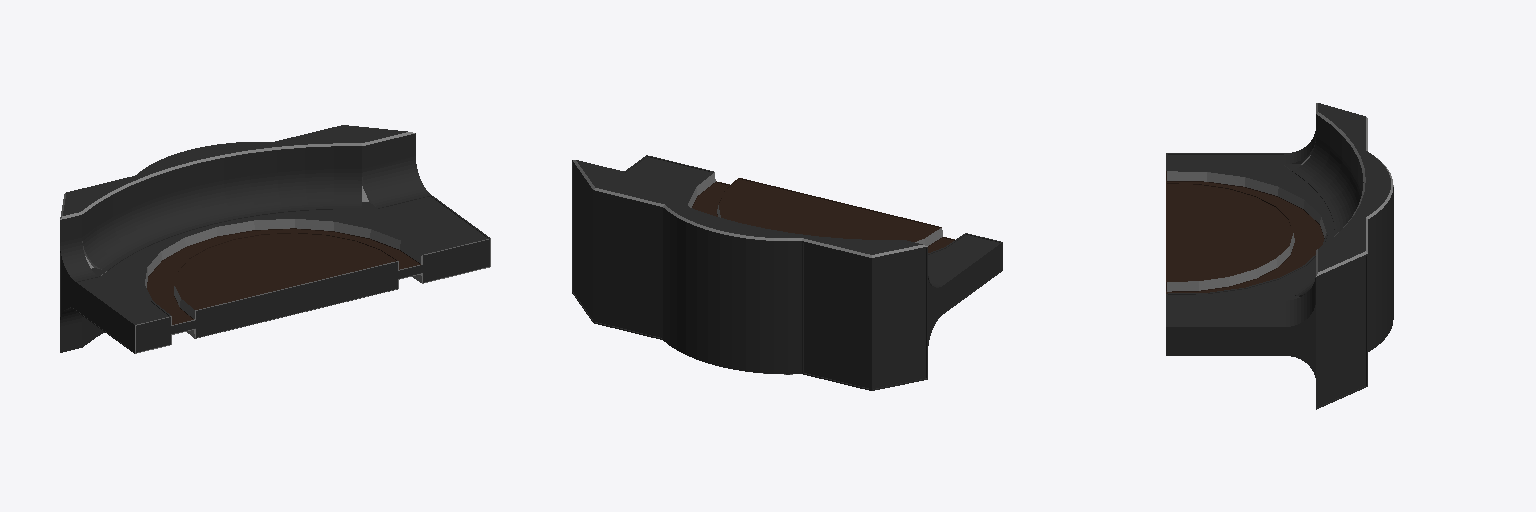
File: trigger_item.obj
3 views of the same model, side by side, from view 1: azimuth 30°, elevation 25°; view 2: azimuth 150°, elevation 25°; view 3: azimuth 270°, elevation 25° (orthographic).
Parts seen in each view (by area): view 1: Mesh01; view 2: Mesh01; view 3: Mesh01.
Part boxes in pixels (x1,y1,x2,y2): Mesh01: (60, 125, 490, 353); Mesh01: (572, 155, 1002, 390); Mesh01: (1166, 103, 1393, 409).
Bounding box in the file's own units: 5.33 × 1.95 × 2.95.